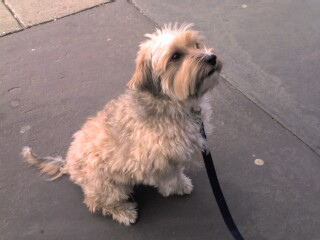dog: (22, 26, 222, 224)
